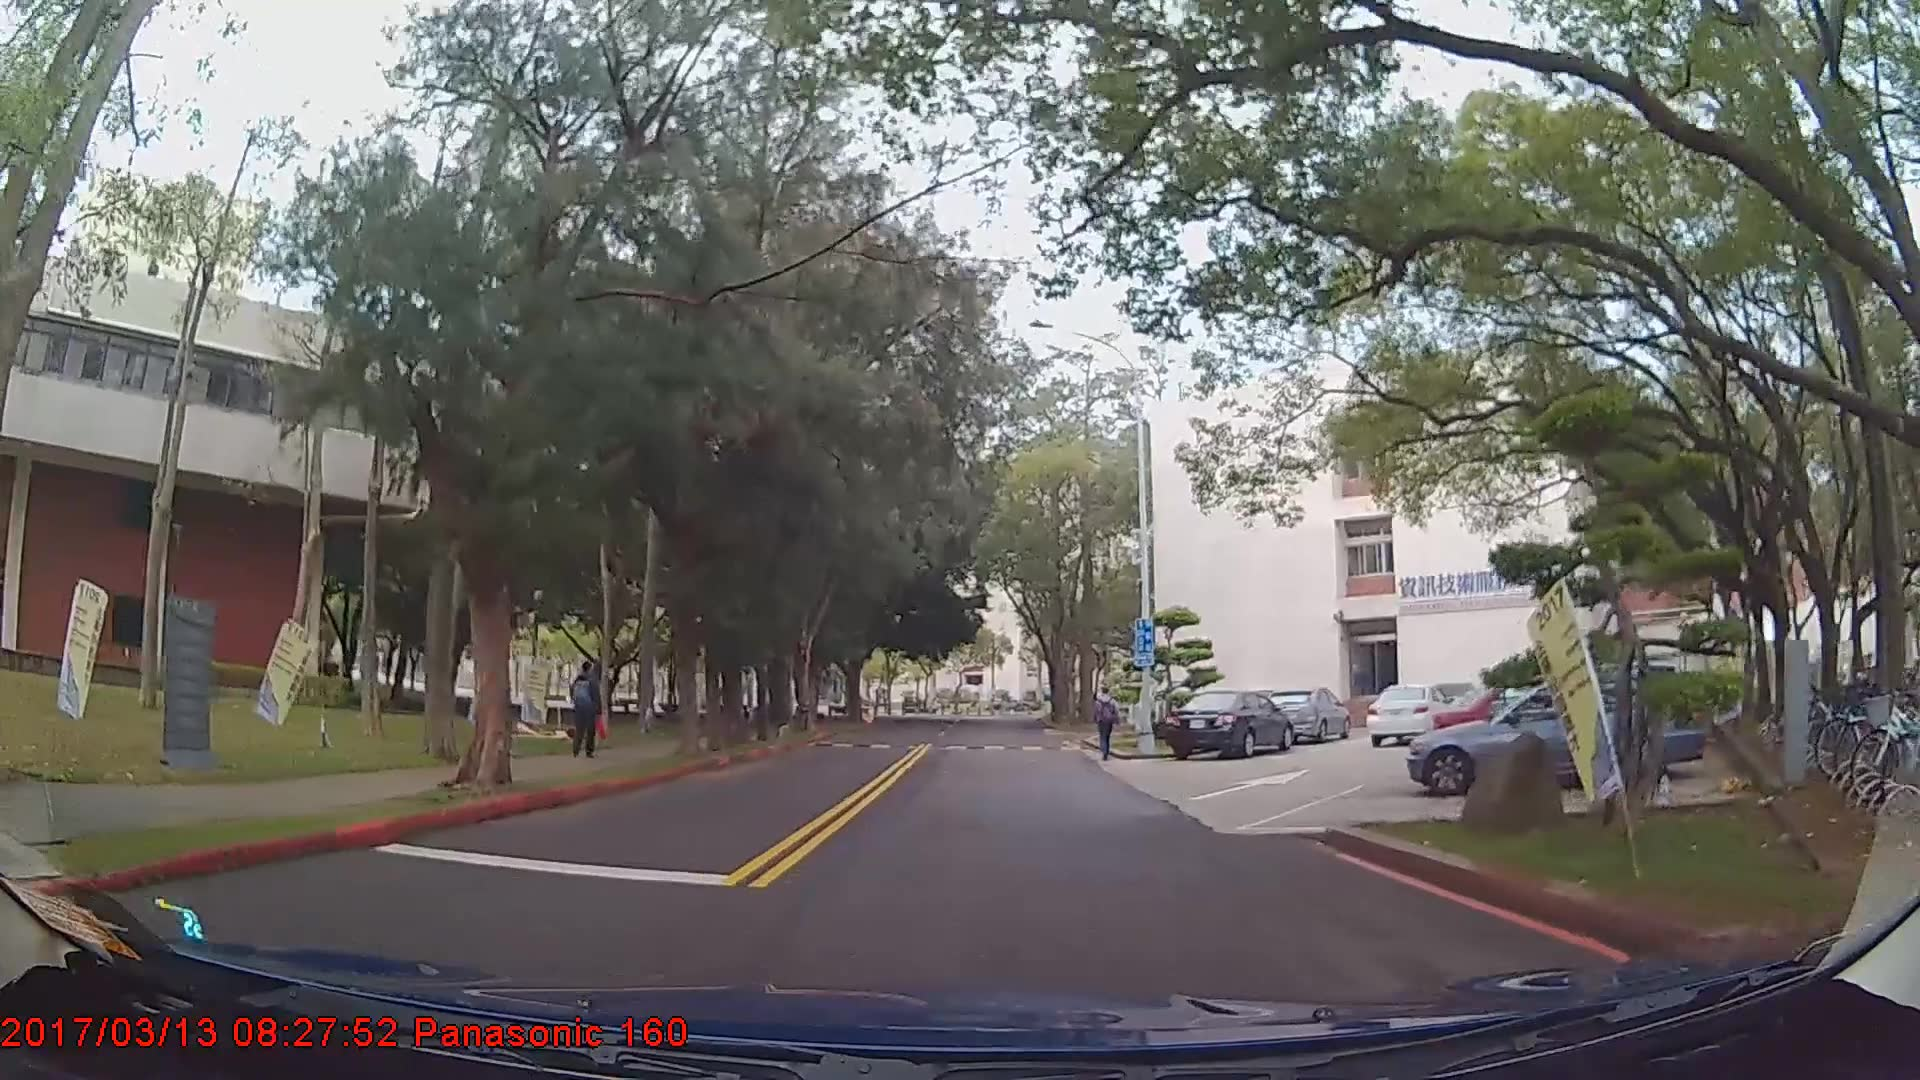pedestrian: (570, 658, 603, 756), (1092, 687, 1121, 762)
vehicle: (1404, 669, 1704, 799), (1162, 684, 1295, 756), (1363, 680, 1451, 745), (1268, 682, 1350, 740)
